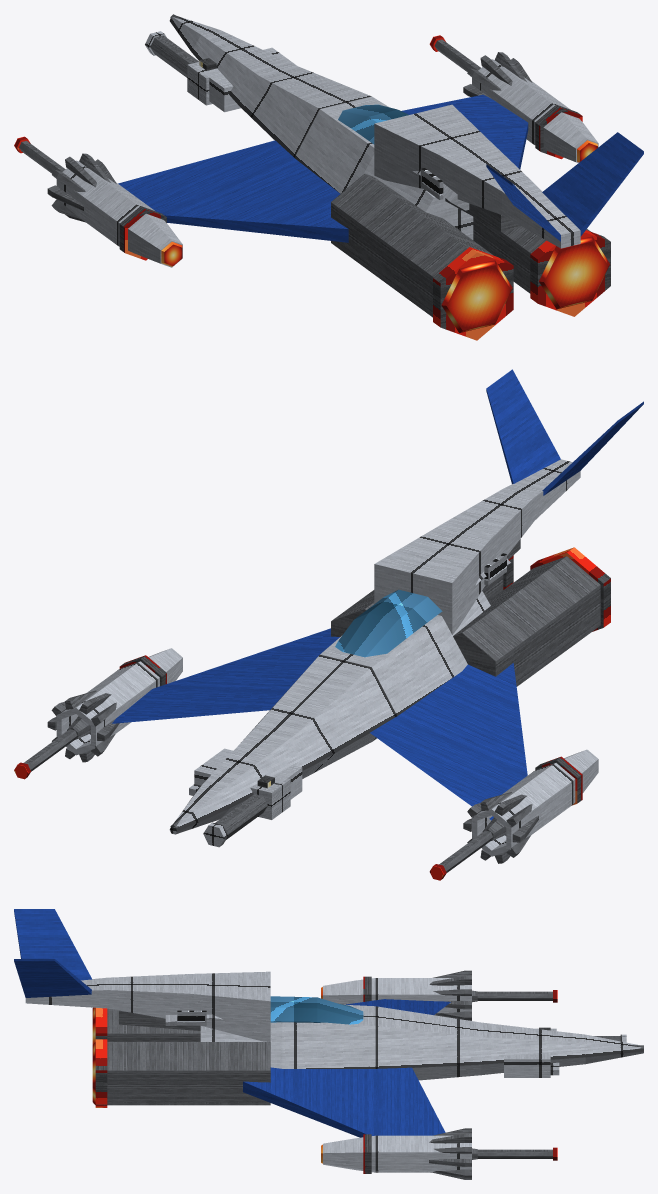
Rendered from sparrowhawk.glb.
3 views of the same model, one above another, from view 1: azimuth 30°, elevation 25°; view 2: azimuth 150°, elevation 25°; view 3: azimuth 270°, elevation 25° (orthographic). The views are drawn at different scales.
Visible parts, largest first — view 1: fuselage, wing, tail_boom, booster, stabiliser.001, driver, driver.001, exhaust, exhaust.001, wing.001, booster.001, booster_ring (+12 smaller); view 2: fuselage, wing, tail_boom, booster, wing.001, stabiliser.001, canopy, driver, driver.001, driver_inlet.001, driver_inlet, booster_ring (+6 smaller); view 3: fuselage, booster.001, wing.001, tail_boom, driver.001, stabiliser, driver, stabiliser.001, canopy, booster, gun_fairing.001, wing (+8 smaller).
Boxes of the visible parts, left/top/right/bottom form: fuselage: left=169, top=16, right=473, bottom=239; wing: left=118, top=140, right=348, bottom=242; tail_boom: left=374, top=104, right=580, bottom=248; booster: left=331, top=173, right=493, bottom=317; stabiliser.001: left=542, top=132, right=643, bottom=236; driver: left=73, top=173, right=182, bottom=267; driver.001: left=489, top=72, right=598, bottom=162; exhaust: left=441, top=260, right=512, bottom=332; exhaust.001: left=539, top=236, right=609, bottom=309; wing.001: left=401, top=94, right=528, bottom=169; booster.001: left=473, top=217, right=590, bottom=293; booster_ring: left=433, top=247, right=513, bottom=340; fuselage: left=169, top=591, right=490, bottom=834; wing: left=370, top=663, right=527, bottom=820; tail_boom: left=374, top=459, right=580, bottom=634; booster: left=453, top=556, right=600, bottom=686; wing.001: left=112, top=628, right=339, bottom=723; stabiliser.001: left=486, top=369, right=560, bottom=483; canopy: left=335, top=589, right=442, bottom=657; driver: left=502, top=749, right=598, bottom=836; driver.001: left=87, top=648, right=182, bottom=734; driver_inlet.001: left=56, top=695, right=114, bottom=755; driver_inlet: left=472, top=796, right=528, bottom=856; booster_ring: left=530, top=547, right=610, bottom=631; fuselage: left=200, top=1004, right=643, bottom=1080; booster.001: left=107, top=1042, right=270, bottom=1105; wing.001: left=243, top=1067, right=445, bottom=1137; tail_boom: left=25, top=971, right=270, bottom=1041; driver.001: left=323, top=1135, right=445, bottom=1172; stabiliser: left=14, top=909, right=91, bottom=980; driver: left=323, top=978, right=445, bottom=1014; stabiliser.001: left=14, top=959, right=91, bottom=997; canopy: left=270, top=996, right=363, bottom=1024; booster: left=107, top=1008, right=200, bottom=1041; gun_fairing.001: left=504, top=1052, right=550, bottom=1077; wing: left=346, top=999, right=450, bottom=1015.
Bounding box in the file's own units: 72.8 × 31.04 × 108.
10 materials, 10 textured.
